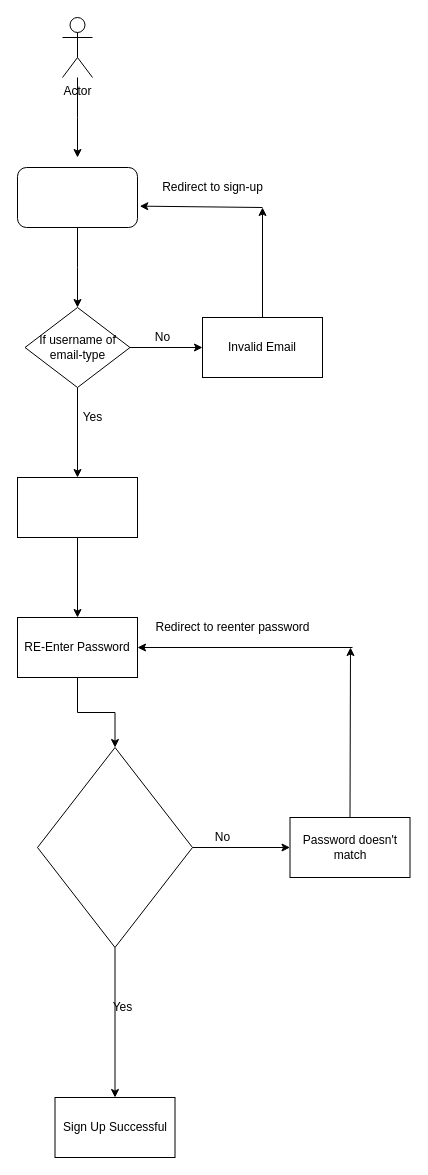
Some shapes in this 428 by 1175 pixel diagram are drawn without their labels. The shapes that lost their labels are listed below. From the top down, each one's centre as x and y in pixels, then its label:
At (x=77, y=197): "SIGN UP Enter username".
At (x=77, y=507): "Enter Password".
At (x=114, y=847): "Password==Reenter Password?".
